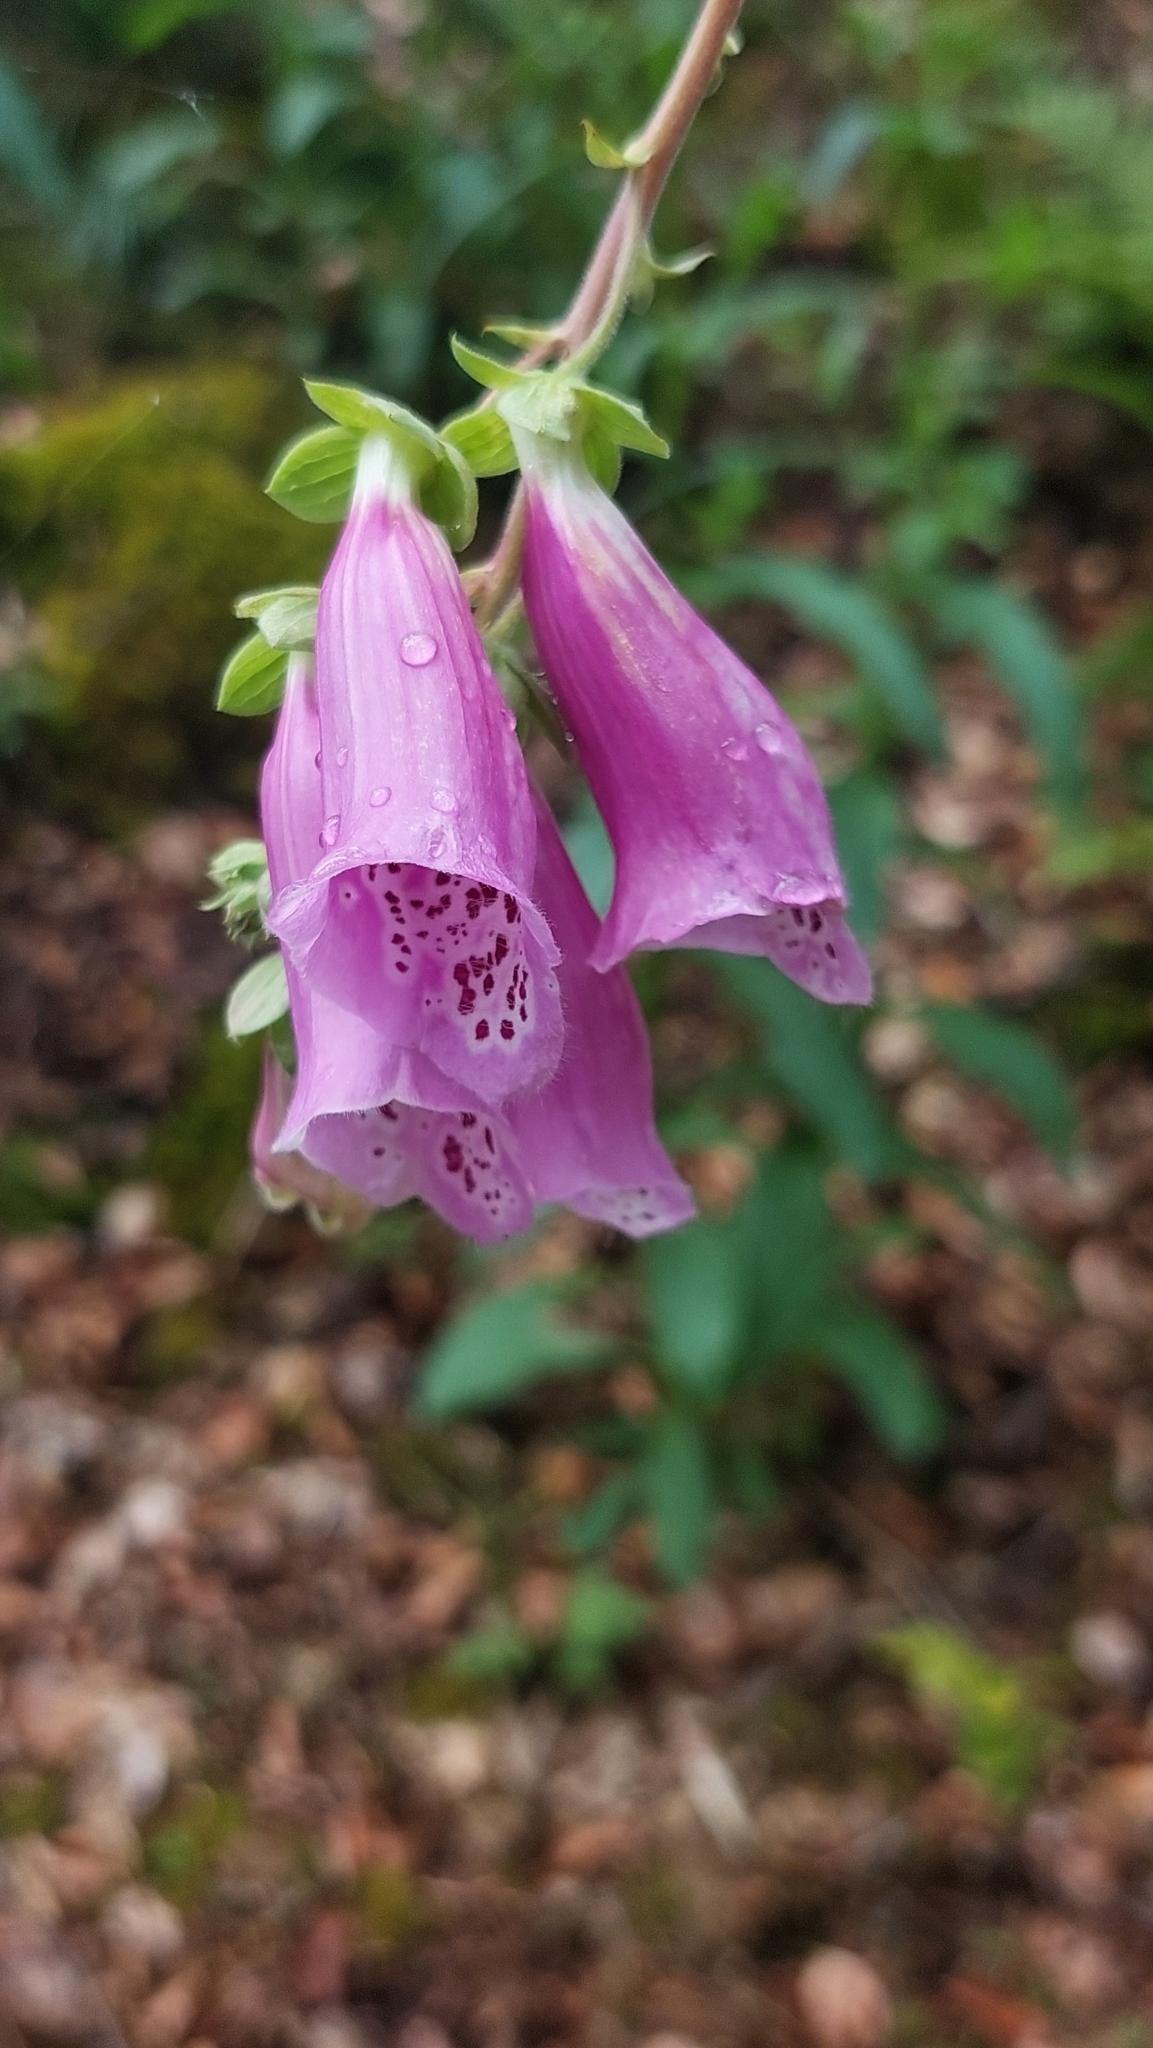Digitalis L: (242, 0, 877, 1262)
